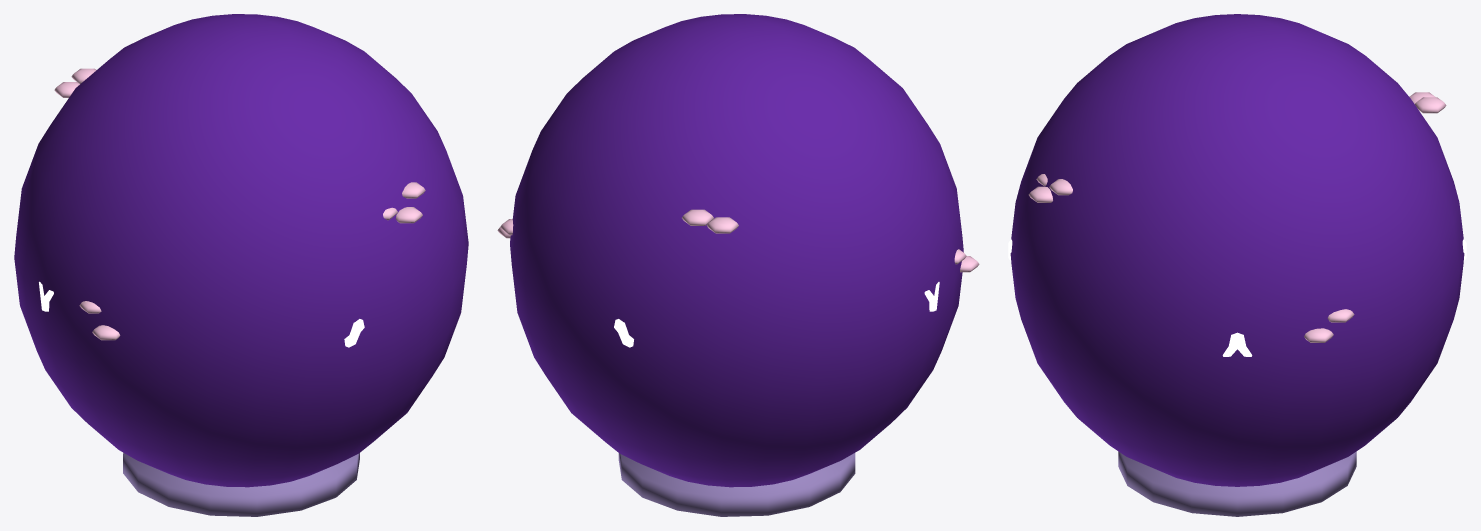
The model's file is egg_cosmic_03.glb.
3 renders of one model, left to right at view 1: azimuth 30°, elevation 25°; view 2: azimuth 150°, elevation 25°; view 3: azimuth 270°, elevation 25°, orthographic.
Visible parts, largest first — view 1: ball; view 2: ball; view 3: ball.
Boxes of the visible parts, x1,y1,x2,y2 form: ball: (14, 14, 468, 516); ball: (497, 14, 979, 516); ball: (1008, 14, 1466, 516).
Bounding box in the file's own units: 0.8494 × 0.88 × 0.8451.
